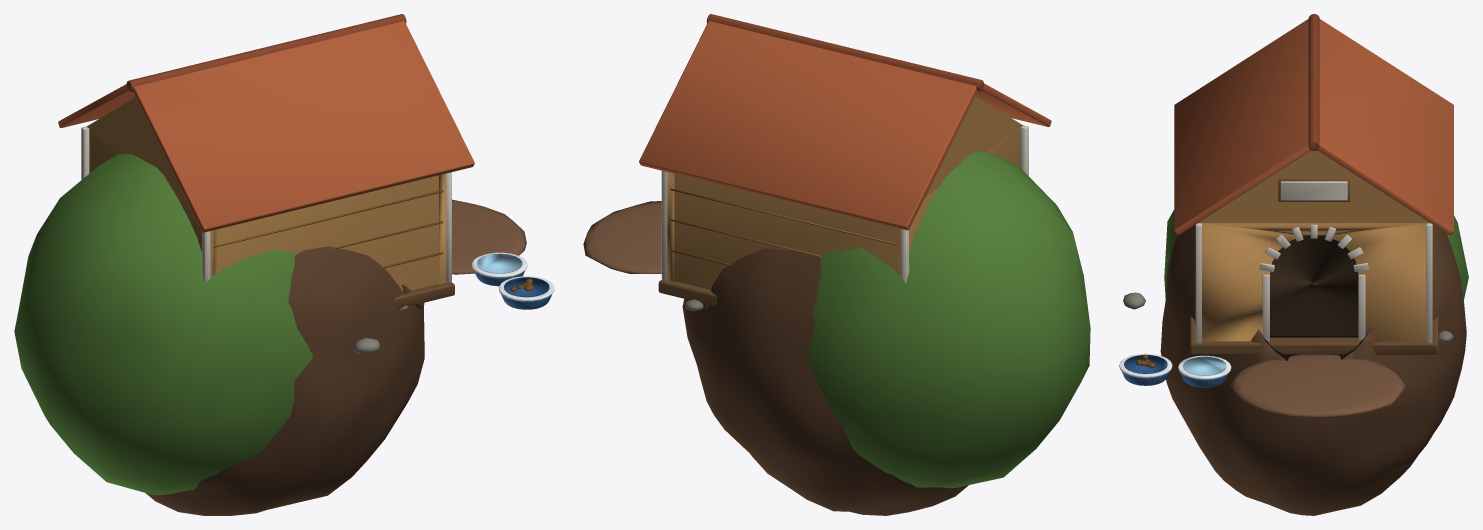
File: fauna.glb
3 views of the same model, side by side, from view 1: azimuth 30°, elevation 25°; view 2: azimuth 150°, elevation 25°; view 3: azimuth 270°, elevation 25° (orthographic). The views are drawn at different scales.
Visible parts, largest first — view 1: den, kennel; view 2: den, kennel; view 3: kennel, den.
Boxes of the visible parts, x1=… form: den: x1=14, y1=153, x2=526, y2=515; kennel: x1=58, y1=14, x2=554, y2=309; den: x1=583, y1=151, x2=1090, y2=515; kennel: x1=639, y1=14, x2=1051, y2=306; kennel: x1=1119, y1=14, x2=1453, y2=387; den: x1=1123, y1=209, x2=1468, y2=515.
Size of the model in its own units: 2.51 by 2.27 by 1.66.
